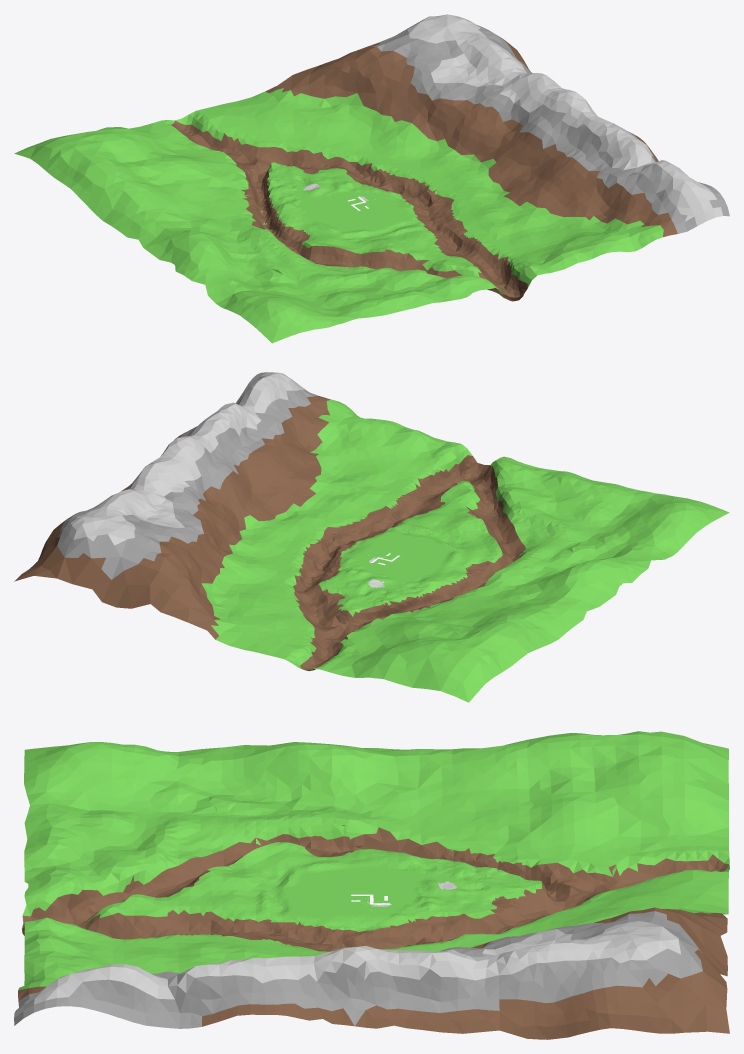
The model's file is ground.glb.
The picture shows the model from 3 angles, top to bottom: view 1: azimuth 30°, elevation 25°; view 2: azimuth 150°, elevation 25°; view 3: azimuth 270°, elevation 25°; orthographic projection. The views are drawn at different scales.
Parts seen in each view (by area): view 1: Tla; view 2: Tla; view 3: Tla.
Part boxes in pixels (left/top/right/bottom): Tla: left=14, top=14, right=729, bottom=343; Tla: left=14, top=372, right=729, bottom=702; Tla: left=14, top=731, right=729, bottom=1039.
Bounding box in the file's own units: 555 × 93.84 × 547.
